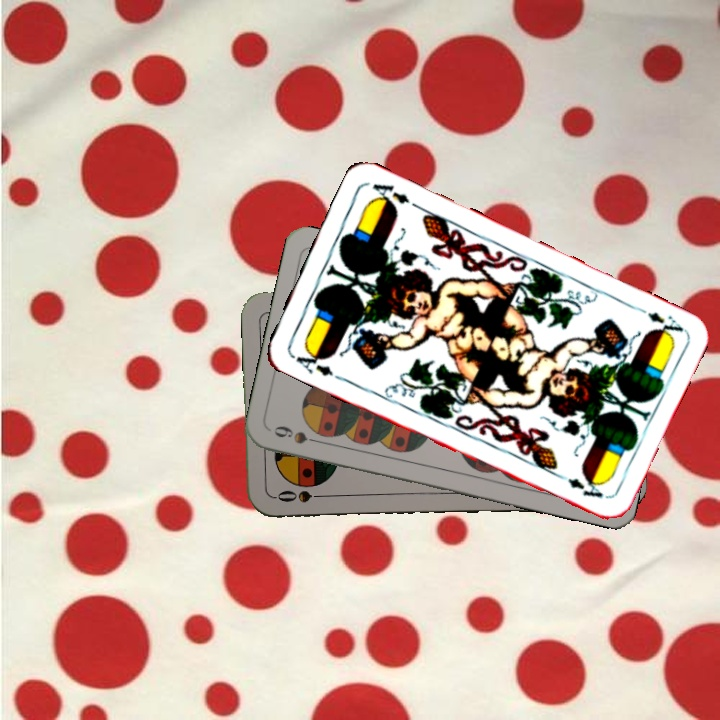EA: (630, 302, 686, 341), (287, 343, 336, 379)
S9: (270, 421, 328, 447)
SO: (271, 486, 330, 505)
